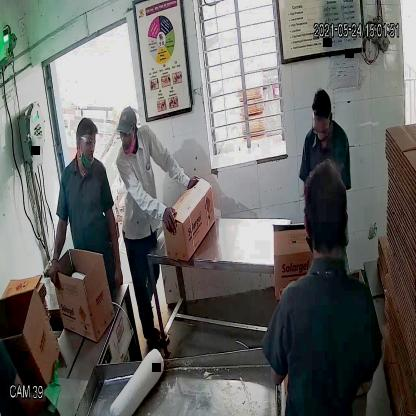goggles: (309, 118, 334, 140), (74, 132, 96, 152)
no_goggles: (117, 127, 135, 143)
